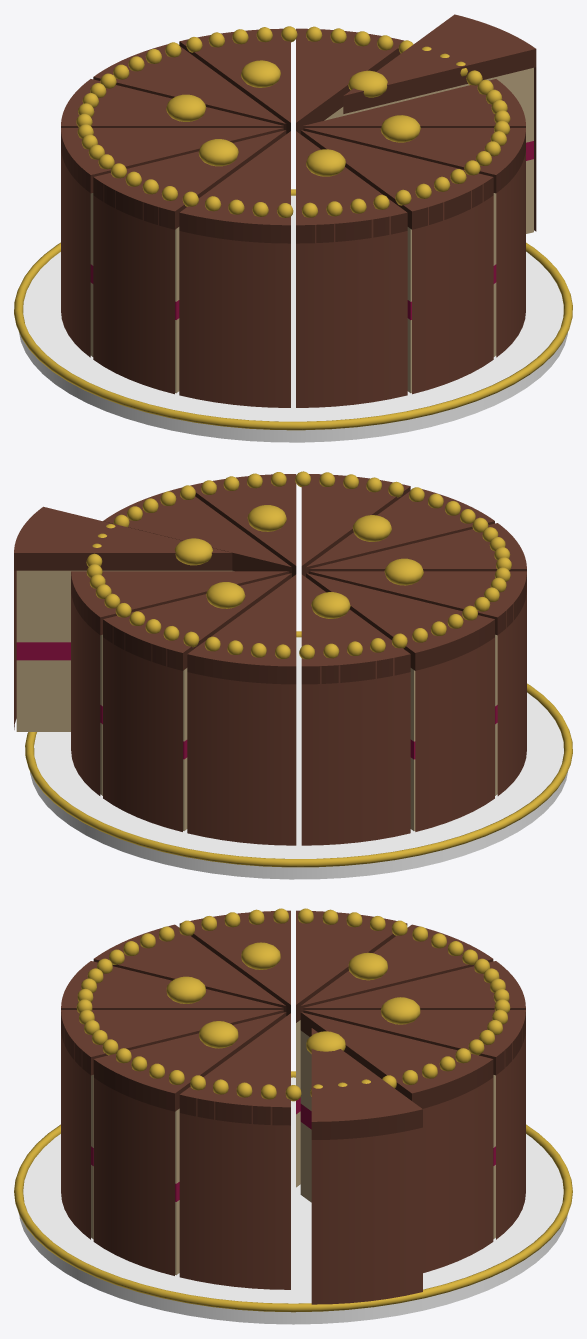
File: torta-24cm-11alto-1p-12porc-chocolate.glb
3 views of the same model, one above another, from view 1: azimuth 30°, elevation 25°; view 2: azimuth 150°, elevation 25°; view 3: azimuth 270°, elevation 25° (orthographic). The views are drawn at different scales.
Size of the model in its own units: 0.3111 by 0.1316 by 0.305.
